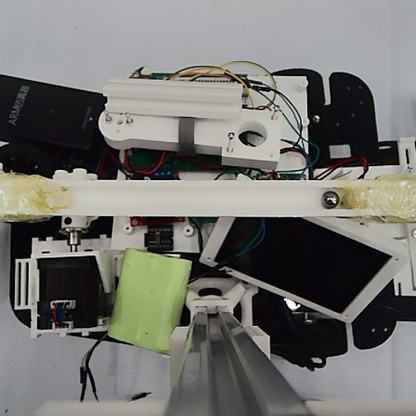ironball: (320, 190, 339, 209)
